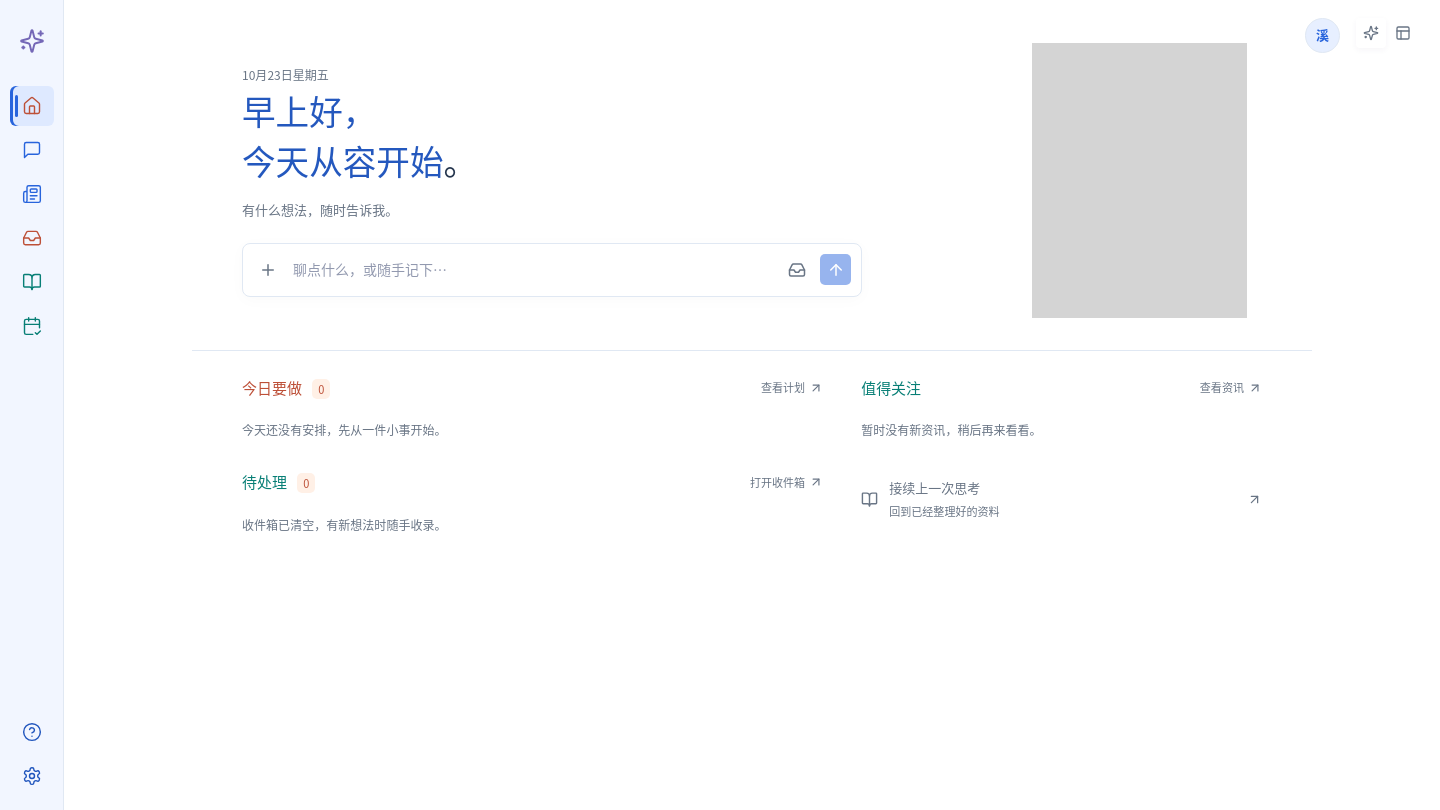
Test: workspace text navigation stays outside the home content and reaches every page
The width and height of the screenshot is (1440, 810).
Click the link named "资讯" at (32, 194), box top-left (22, 184), bottom-right (42, 204)
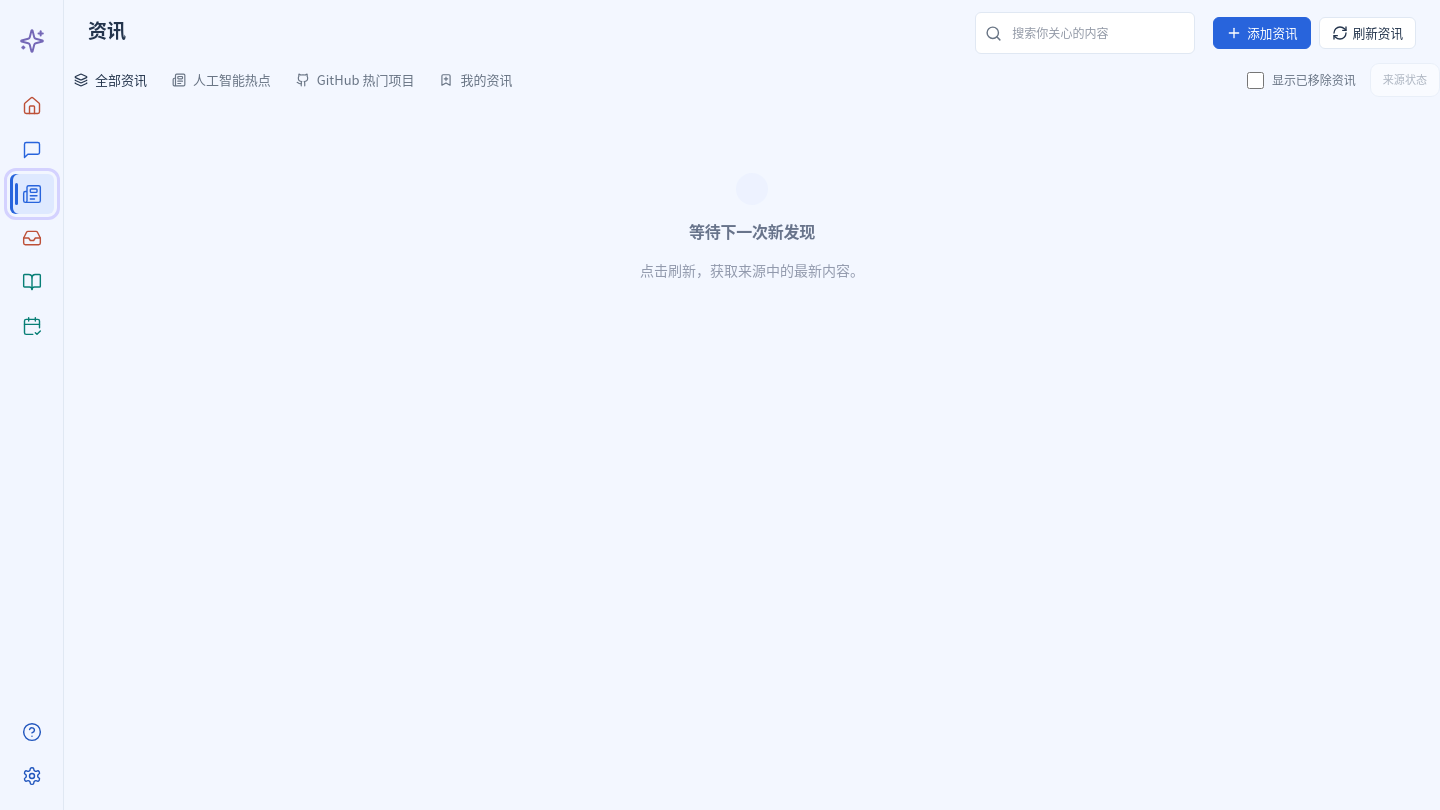
Now the heading "资讯" is shown, box top-left (88, 16), bottom-right (126, 43)
